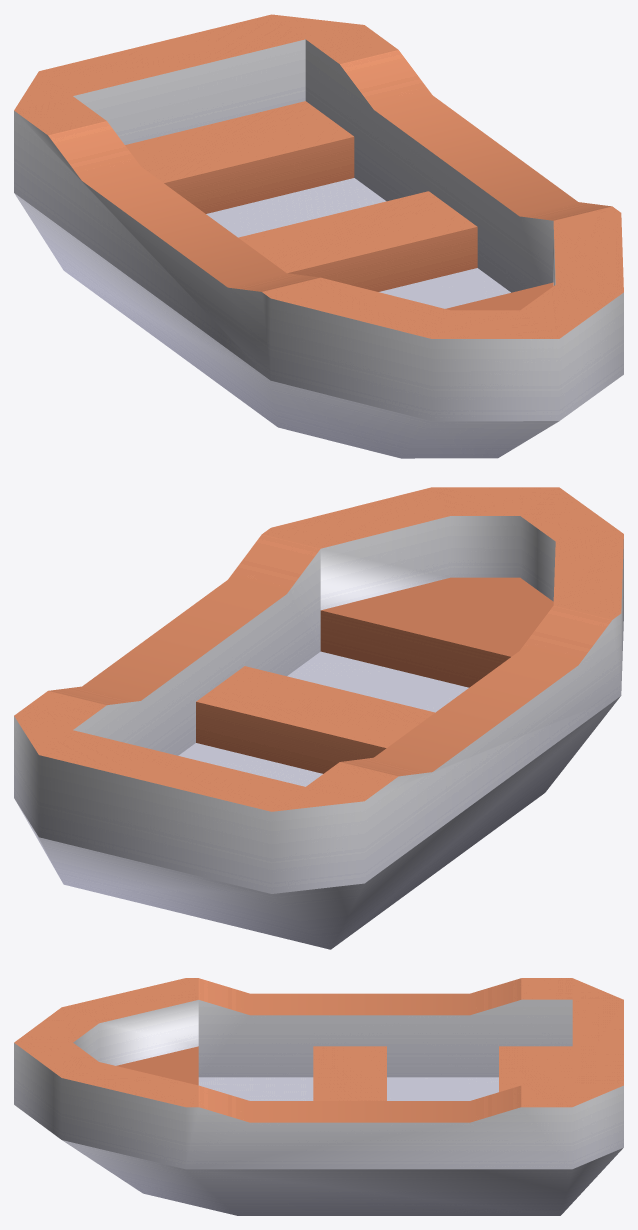
File: boat-row-large.glb
The picture shows the model from 3 angles, top to bottom: view 1: azimuth 30°, elevation 25°; view 2: azimuth 150°, elevation 25°; view 3: azimuth 270°, elevation 25°; orthographic projection. The views are drawn at different scales.
Parts seen in each view (by area): view 1: boat-row-large; view 2: boat-row-large; view 3: boat-row-large.
Boxes of the visible parts, <box> form: boat-row-large: <box>14,14,623,458</box>; boat-row-large: <box>14,487,623,949</box>; boat-row-large: <box>14,978,623,1215</box>.
Bounding box in the file's own units: 1.43 × 0.64 × 2.85.
Materials: 1 (1 with a texture image).
